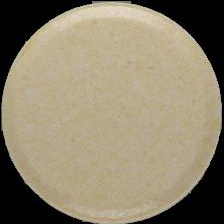0093-3010: (0, 0, 224, 224)
